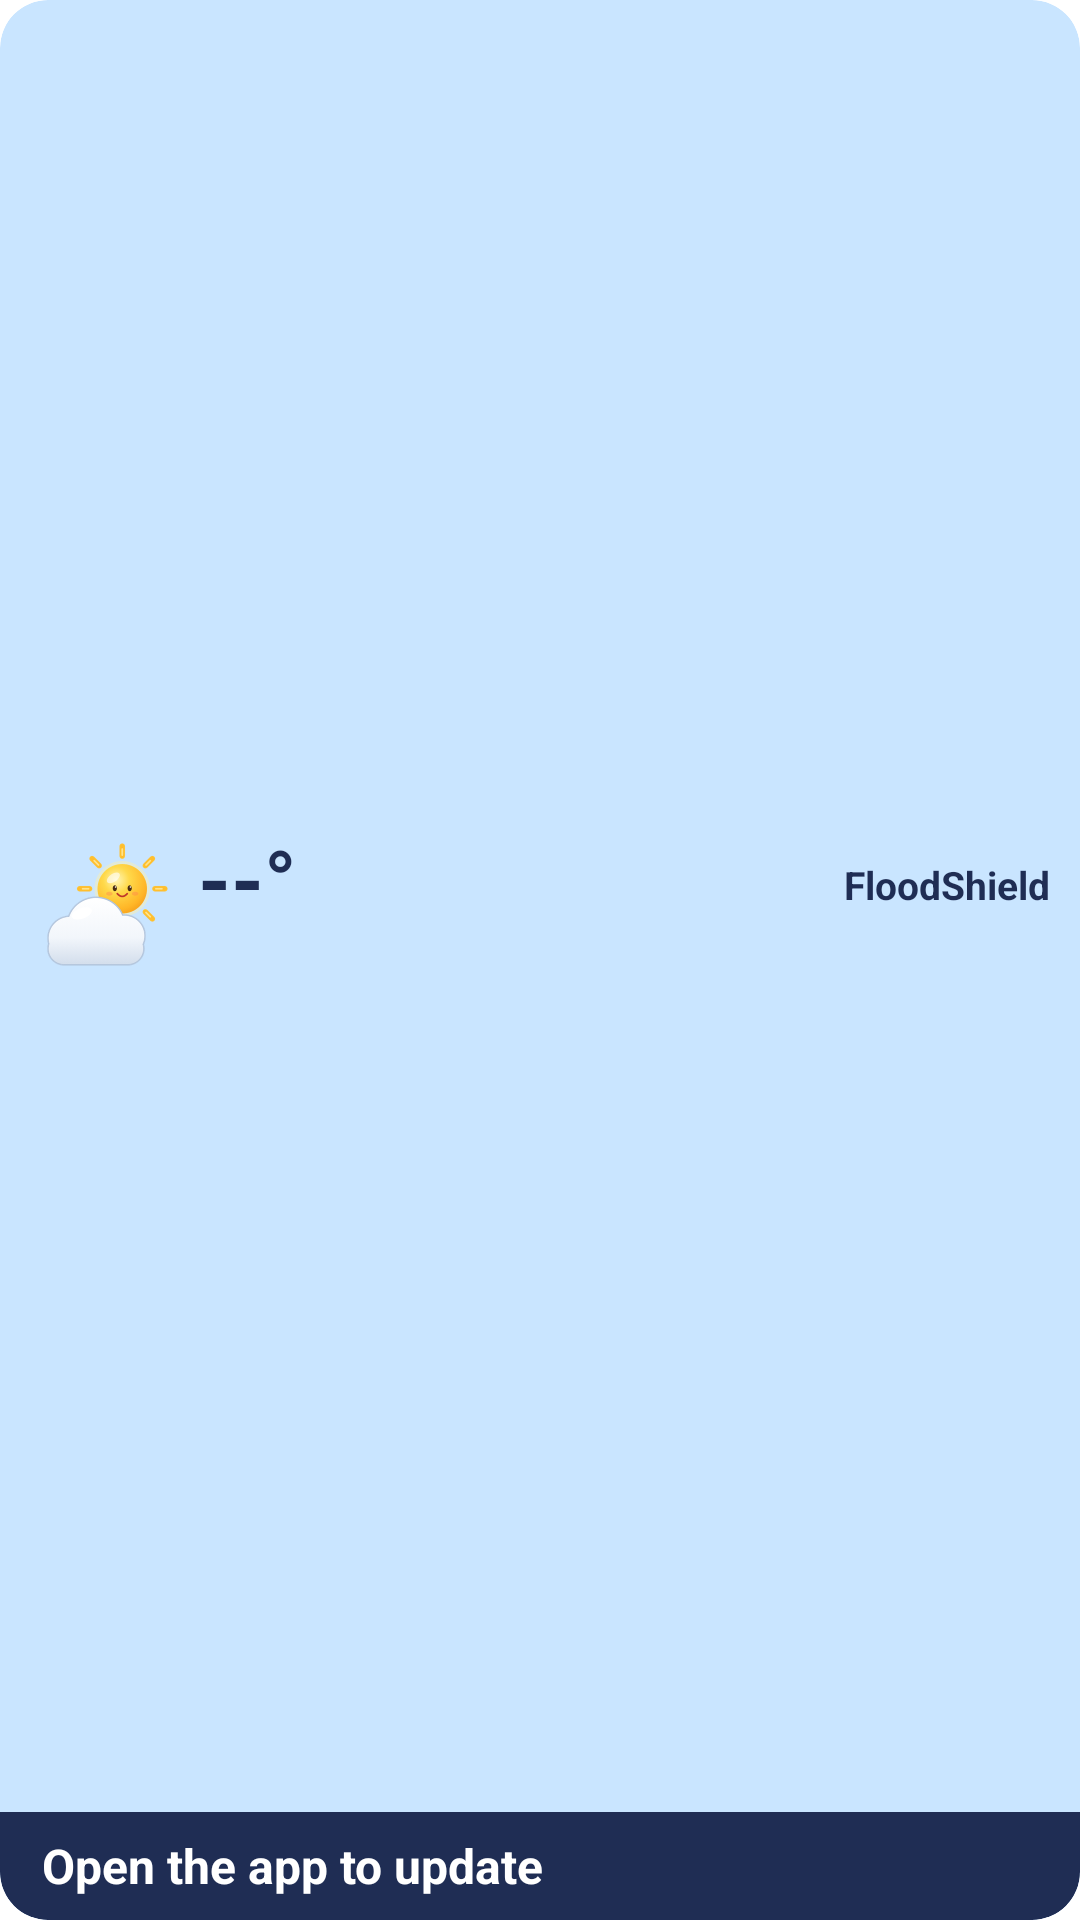

Where icons sit on this 1080*1920 app screen, as bbox=(x1, y1, x2, y2):
widget weather cloudy day: bbox=(48, 843, 168, 965)
